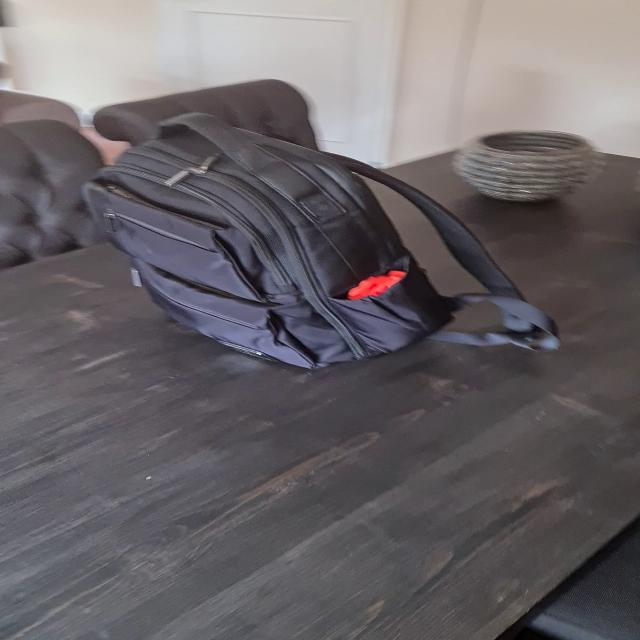backpack: (79, 112, 457, 374)
